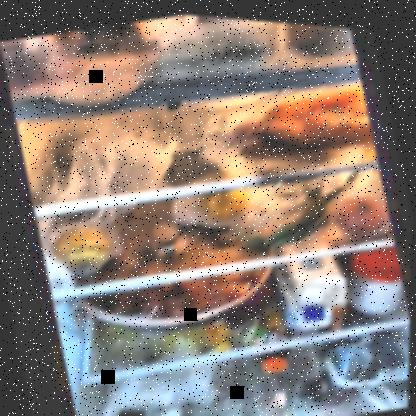broccoli: (326, 320, 410, 384)
cheese: (164, 11, 274, 83)
green_chillies: (231, 190, 332, 253)
lemon: (50, 216, 118, 274), (201, 181, 258, 220)
milk: (277, 243, 355, 325)
tomato: (332, 183, 392, 235)
